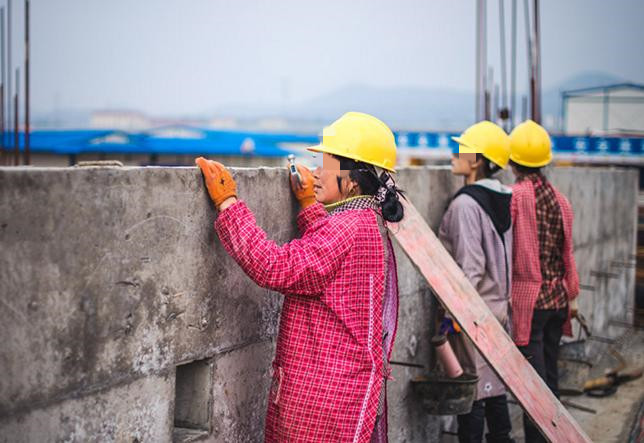helmet: (307, 110, 398, 173), (452, 119, 509, 169), (511, 118, 553, 168)
person: (194, 110, 400, 443), (428, 115, 514, 443), (511, 117, 580, 443)
